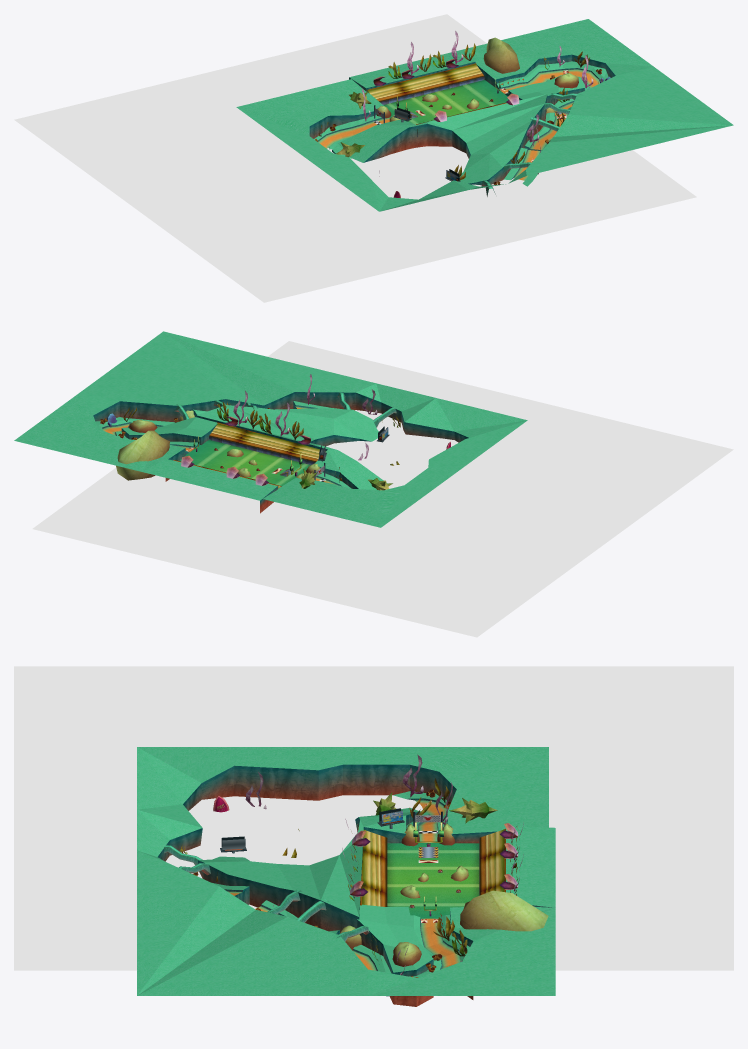
The model's file is Fish Hooks Track 2.glb.
3 renders of one model, top to bottom at view 1: azimuth 30°, elevation 25°; view 2: azimuth 150°, elevation 25°; view 3: azimuth 270°, elevation 25°, orthographic. The views are drawn at different scales.
Visible parts, largest first — view 1: Plane (×2), Plane_001, cliff_4, cliff_1, cliff_6, cliff_3, cliff_2, Track_Section_1_003, cliff7, Track_Section_1_001, big rock, Plane_004 (+1 smaller); view 2: Plane (×2), cliff_4, cliff_3, Plane_001, cliff_6, cliff_1, cliff_2, cliff7, big rock, Plane_004, Track_Section_1_003; view 3: Plane (×2), cliff_4, cliff_1, cliff_2, cliff_6, Plane_001, cliff_3, cliff7, Plane_004, big rock, Track_Section_1_003, Track_Section_1_001.
Part boxes in pixels (left/top/right/bottom): Plane (×2): left=14, top=14, right=696, bottom=302; Plane_001: left=332, top=94, right=547, bottom=185; cliff_4: left=549, top=66, right=733, bottom=142; cliff_1: left=236, top=79, right=383, bottom=159; cliff_6: left=463, top=19, right=653, bottom=87; cliff_3: left=454, top=125, right=732, bottom=189; cliff_2: left=309, top=157, right=467, bottom=211; Track_Section_1_003: left=496, top=61, right=608, bottom=111; cliff7: left=349, top=49, right=475, bottom=91; Track_Section_1_001: left=314, top=115, right=541, bottom=186; big rock: left=483, top=37, right=519, bottom=73; Plane_004: left=508, top=75, right=584, bottom=104; Plane (×2): left=32, top=341, right=733, bottom=637; cliff_4: left=81, top=331, right=294, bottom=422; cliff_3: left=164, top=331, right=435, bottom=433; Plane_001: left=196, top=405, right=387, bottom=489; cliff_6: left=14, top=391, right=185, bottom=481; cliff_1: left=263, top=459, right=454, bottom=527; cliff_2: left=404, top=398, right=527, bottom=473; cliff7: left=143, top=458, right=277, bottom=513; big rock: left=116, top=430, right=169, bottom=480; Plane_004: left=121, top=417, right=217, bottom=444; Track_Section_1_003: left=95, top=417, right=199, bottom=454; Plane (×2): left=14, top=666, right=733, bottom=970; cliff_4: left=137, top=886, right=367, bottom=995; cliff_1: left=318, top=747, right=548, bottom=843; cliff_2: left=137, top=747, right=340, bottom=827; cliff_6: left=368, top=906, right=555, bottom=999; Plane_001: left=198, top=808, right=419, bottom=933; cliff_3: left=137, top=810, right=218, bottom=995; cliff7: left=506, top=826, right=555, bottom=907; Plane_004: left=357, top=904, right=433, bottom=1006; big rock: left=460, top=890, right=548, bottom=931; Track_Section_1_003: left=353, top=915, right=469, bottom=977; Track_Section_1_001: left=212, top=791, right=447, bottom=904.
Size of the model in its own units: 1827 by 289 by 1544.
Materials: 30 (28 with a texture image).
